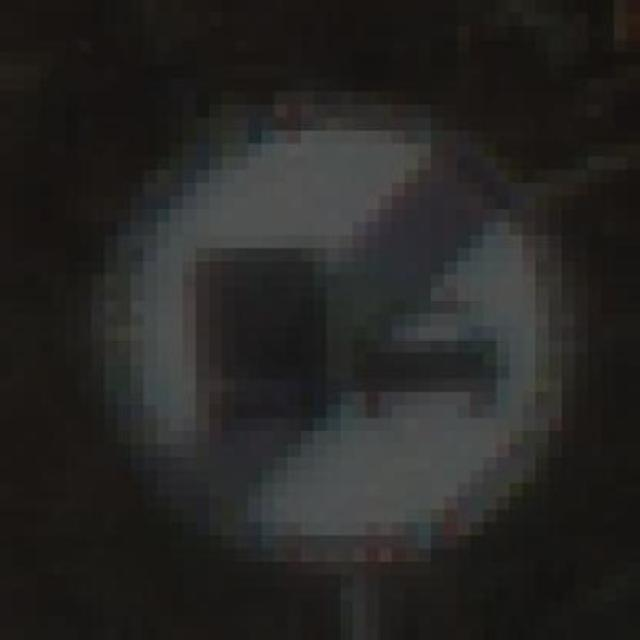Overtaking by trucks is prohibited: (52, 90, 588, 588)
